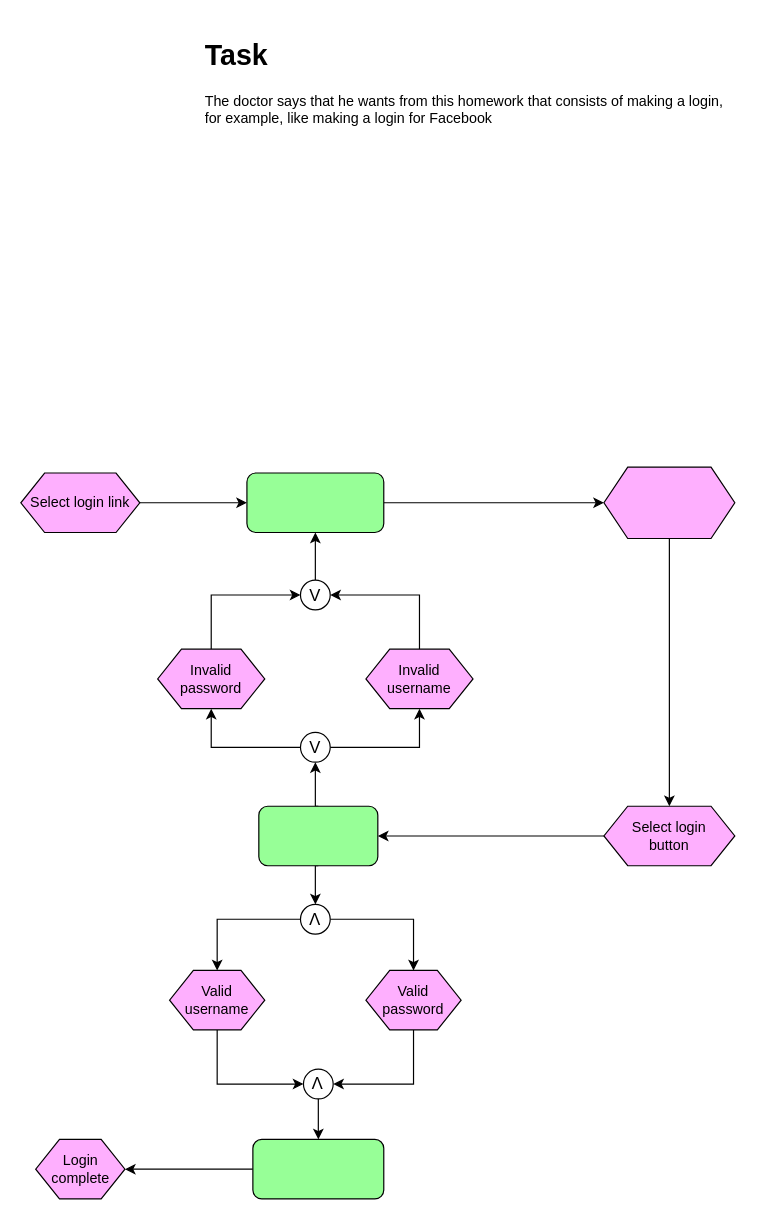
Image size: 768x1220. Some labels were removed from this diagram. The box of each missing label's shape, as (x1, y1, x2, y2) in pixels:
Input username and password: (603, 466, 735, 538)
Show login form: (246, 472, 384, 533)
Show welcome page: (252, 1138, 384, 1199)
Validate credentials: (258, 805, 378, 866)
